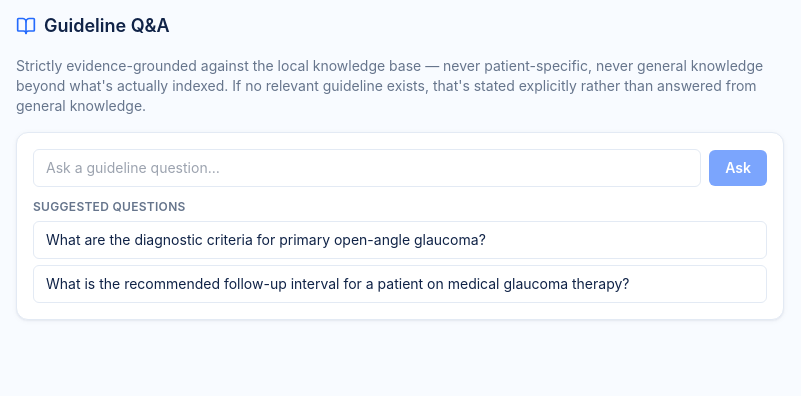
Test case: Workflow page — Guideline Q&A › asks a question and shows a cited, evidence-grounded answer
Type "What is the target IOP?" into the field with placeholder "Ask a guideline question…" at (367, 168), box [33, 149, 701, 187]
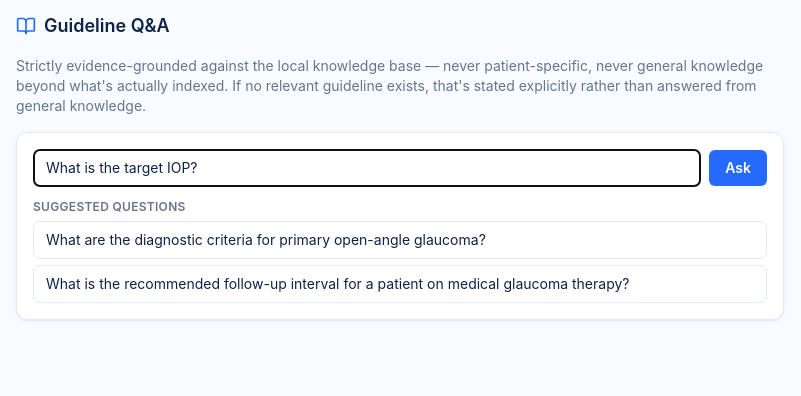
Click the button "Ask" at (738, 168), box [709, 150, 767, 186]
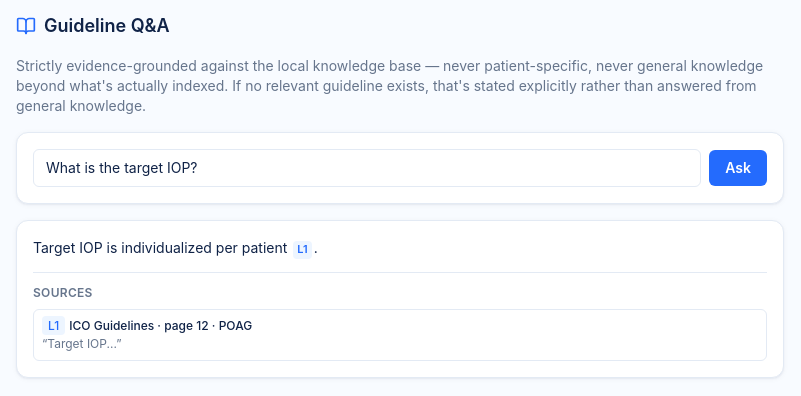
Now the text "Target IOP is individualized per patient L1 ." is shown, box [33, 239, 318, 259]
Now the text "L1ICO Guidelines · page 12 · POAG" is shown, box [42, 316, 252, 335]
